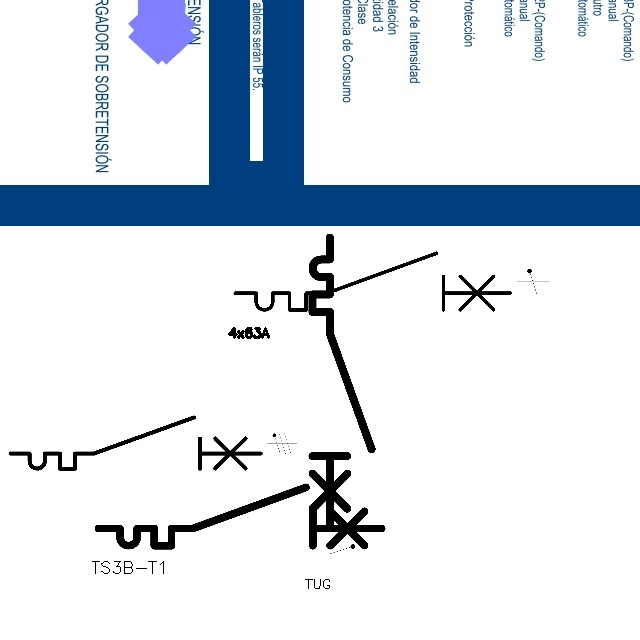interruptor_termomagnetico: (305, 230, 379, 534), (91, 480, 389, 553), (228, 246, 518, 317), (4, 411, 267, 475)
